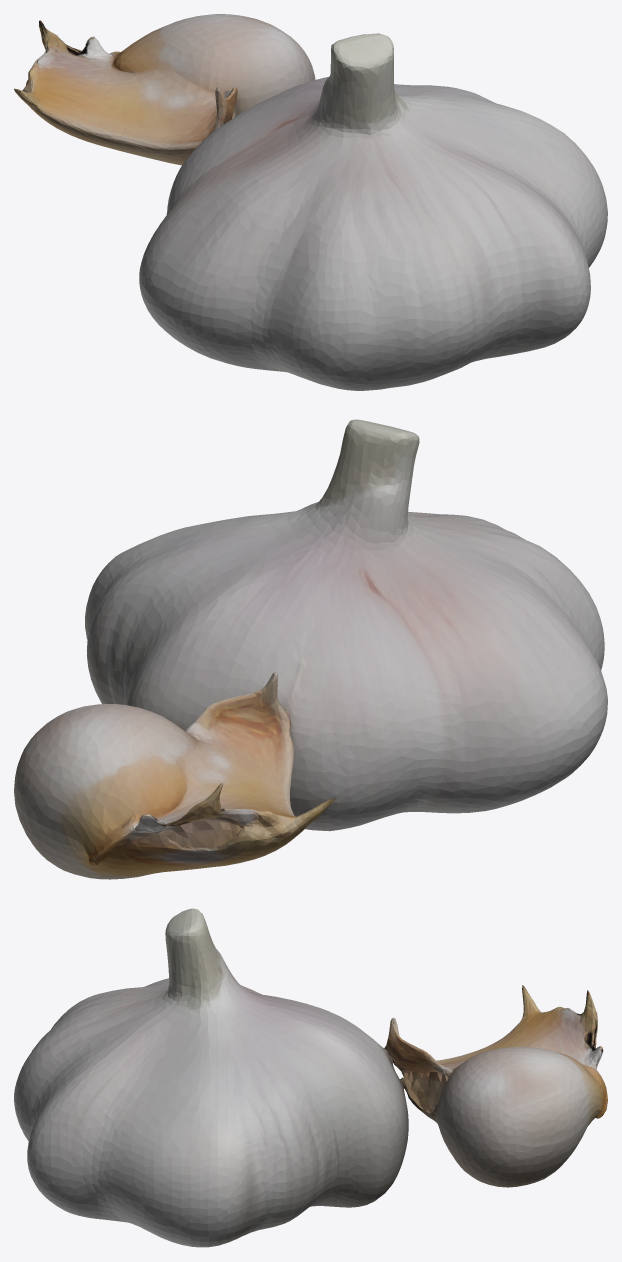
Rendered from garlic.glb.
3 views of the same model, one above another, from view 1: azimuth 30°, elevation 25°; view 2: azimuth 150°, elevation 25°; view 3: azimuth 270°, elevation 25° (orthographic). The views are drawn at different scales.
Visible parts, largest first — view 1: world; view 2: world; view 3: world.
Part boxes in pixels (x1,y1,x2,y2): world: (14, 14, 607, 390); world: (14, 419, 607, 879); world: (14, 908, 607, 1247).
Size of the model in its own units: 0.7346 by 0.5483 by 0.9953.
1 material, 1 textured.
